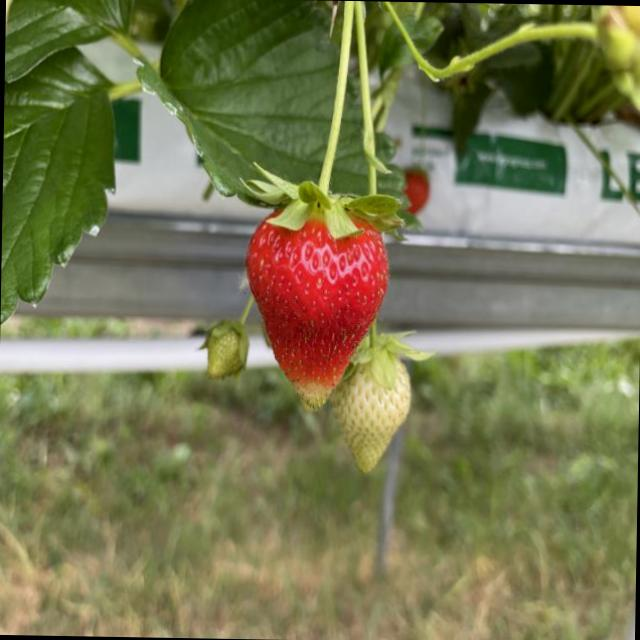stem: (244, 0, 400, 239), (346, 321, 427, 389)
strawberryNR: (333, 366, 407, 472)
strawberryR: (245, 219, 386, 409)
